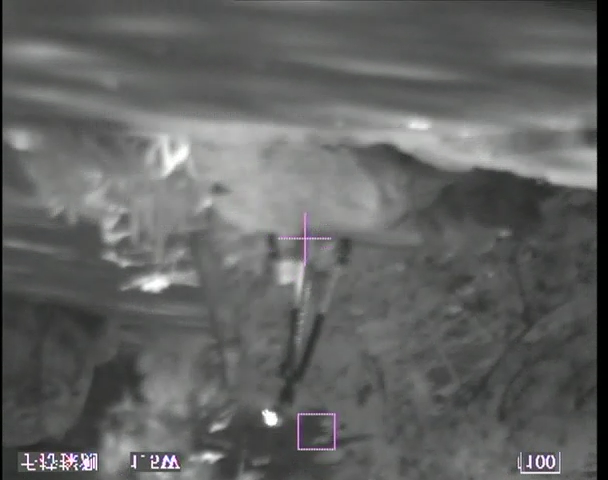my: (261, 407, 278, 427)
